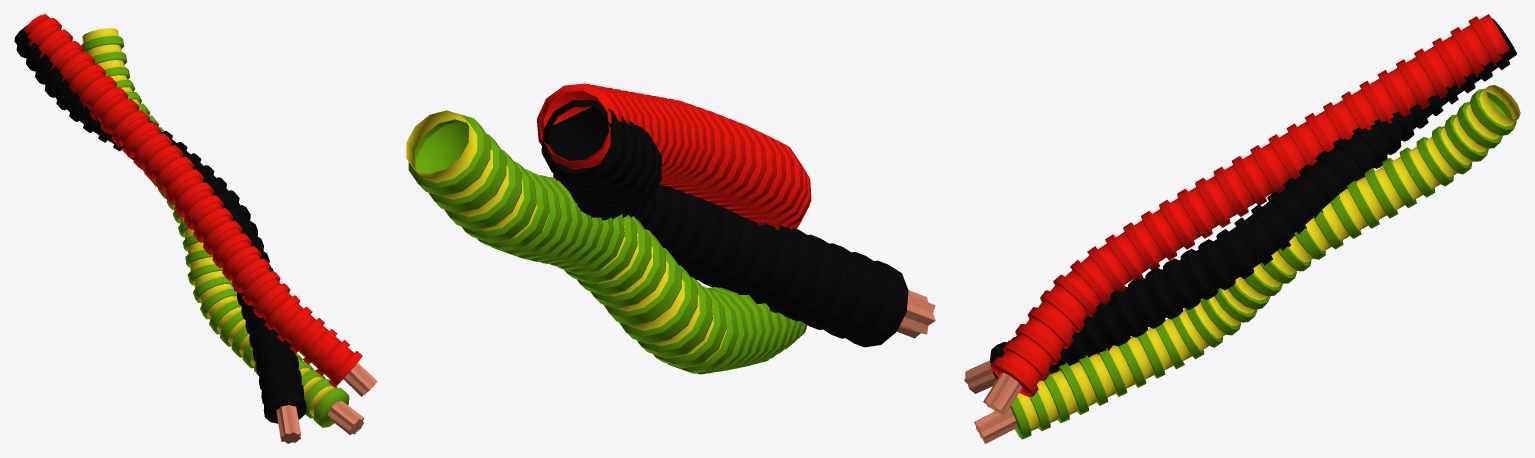
The model's file is Wires_01.fbx.
3 views of the same model, side by side, from view 1: azimuth 30°, elevation 25°; view 2: azimuth 150°, elevation 25°; view 3: azimuth 270°, elevation 25° (orthographic). The views are drawn at different scales.
Visible parts, largest first — view 1: Wires_01; view 2: Wires_01; view 3: Wires_01.
Part boxes in pixels (x1,y1,x2,y2): Wires_01: (14,14,377,443); Wires_01: (406,83,935,374); Wires_01: (964,14,1520,443).
Size of the model in its own units: 170 by 305 by 425.
